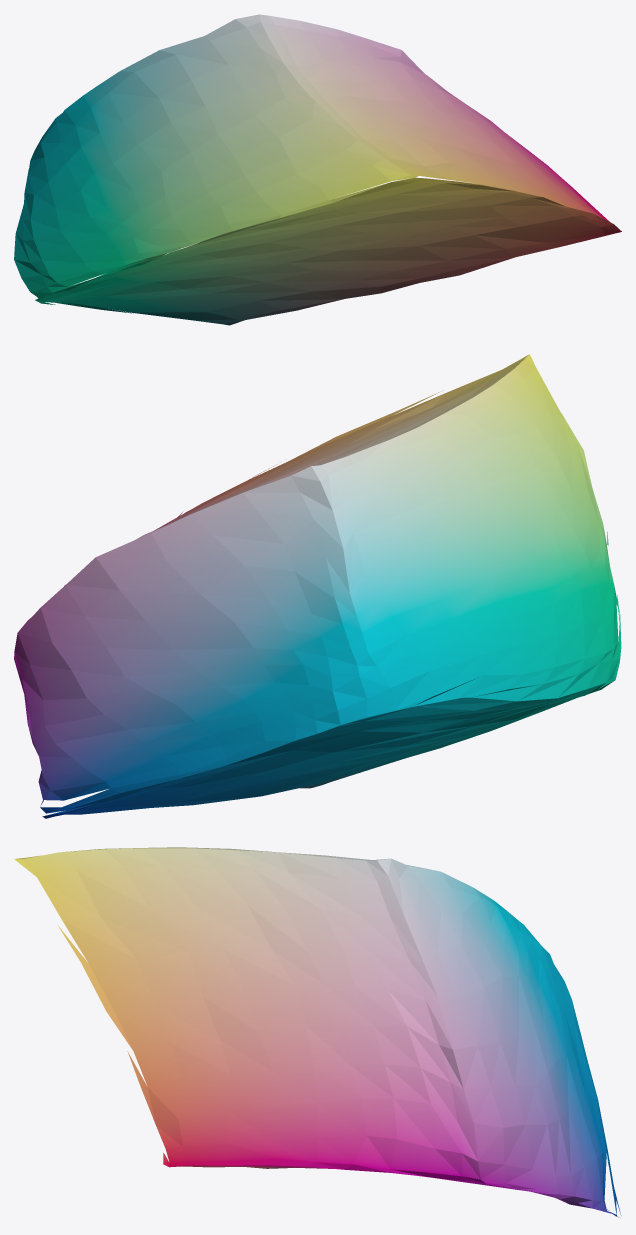
The model's file is canon_in_abL_output.glb.
The picture shows the model from 3 angles, top to bottom: view 1: azimuth 30°, elevation 25°; view 2: azimuth 150°, elevation 25°; view 3: azimuth 270°, elevation 25°; orthographic projection. The views are drawn at different scales.
Visible parts, largest first — view 1: world; view 2: world; view 3: world.
Part boxes in pixels (bbox=[...]): world: bbox=[14, 14, 621, 325]; world: bbox=[14, 354, 621, 818]; world: bbox=[14, 847, 621, 1217].
Bounding box in the file's own units: 151 × 86.56 × 158.
